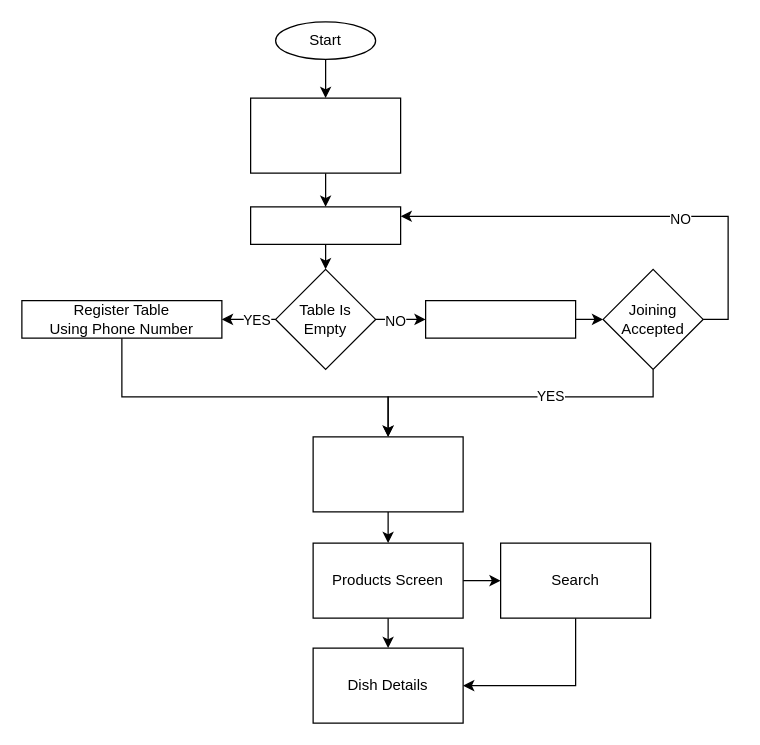
Some shapes in this 760 by 745 pixel diagram are drawn without their labels. Here are the shapes that lost their labels. From the top down, the centre of each, then its label:
[325,135]: On Boarding
[325,225]: Scanning Screen
[500,318]: Join Table Using Phone Number
[387,474]: Verify Using Phone Or Email
